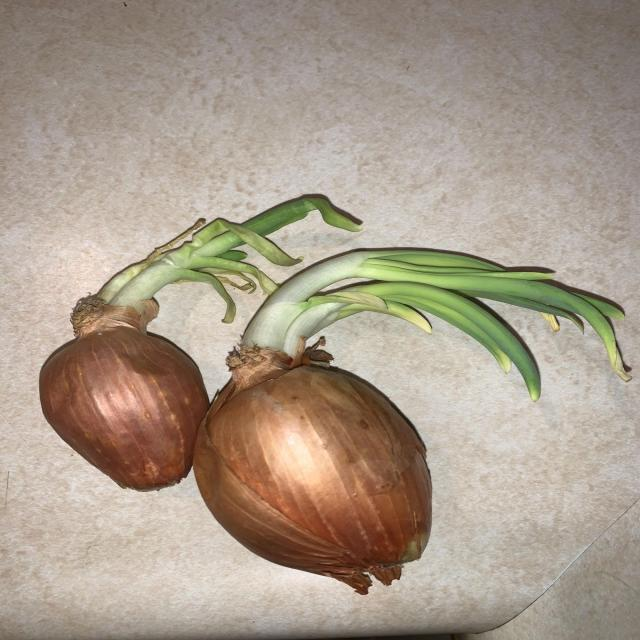sprouting: (41, 160, 597, 593)
